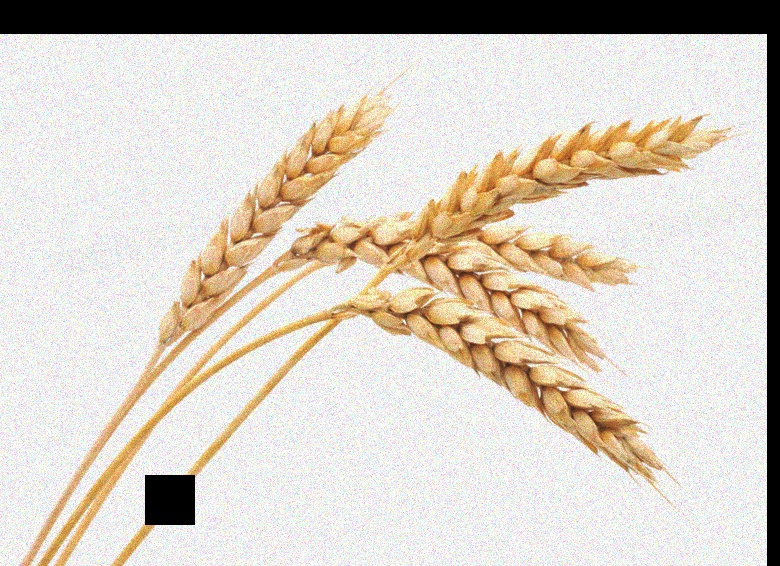wheat: (139, 91, 383, 376), (362, 105, 731, 291), (332, 292, 667, 487)
